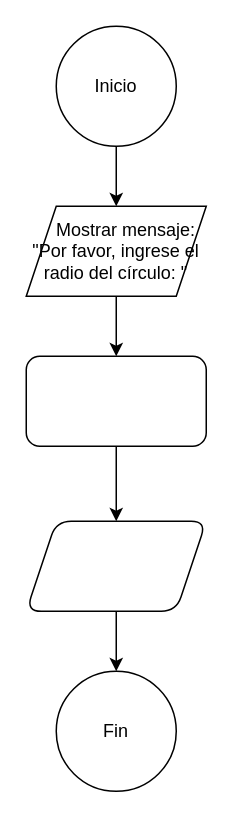
Image size: 233x818. Some labels were removed from this diagram. Here are the shapes that lost their labels. From the top down, the centre of each, then its label:
(x=115, y=400): Definir y asignar a la variable area el resultado de pi * radio al cuadrado
(x=115, y=565): Mostrar mensaje "El área del círculo con radio", radio, "es: ", area
